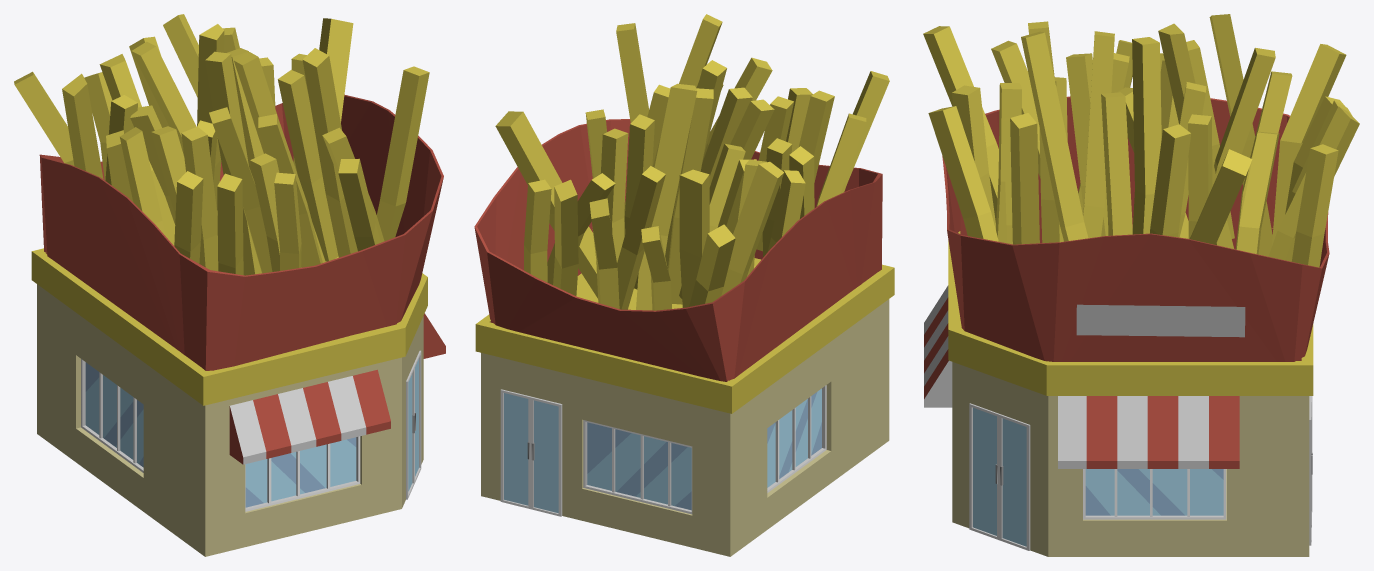
The model's file is cafe_003.fbx.
3 renders of one model, left to right at view 1: azimuth 30°, elevation 25°; view 2: azimuth 150°, elevation 25°; view 3: azimuth 270°, elevation 25°, orthographic. The views are drawn at different scales.
Parts seen in each view (by area): view 1: cafe_003; view 2: cafe_003; view 3: cafe_003.
Part boxes in pixels (x1=…): cafe_003: x1=14, y1=14, x2=445, y2=556; cafe_003: x1=474, y1=14, x2=894, y2=556; cafe_003: x1=923, y1=14, x2=1359, y2=556.
Bounding box in the file's own units: 585 × 807 × 684.
